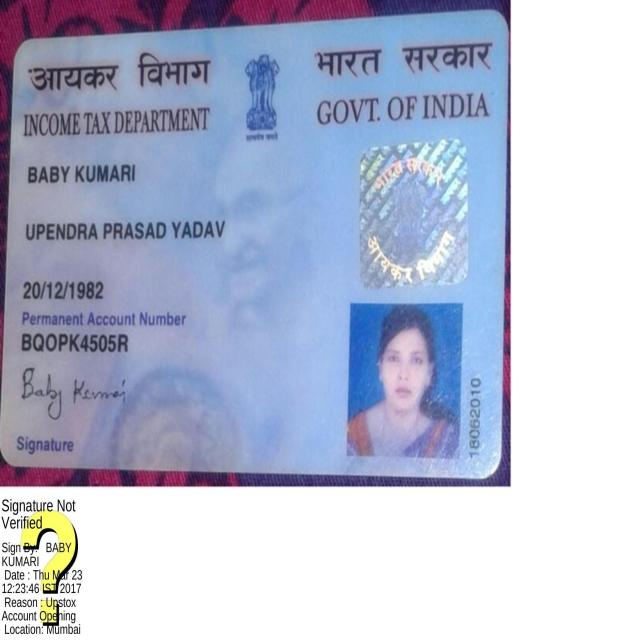pan_card: (5, 28, 500, 477)
